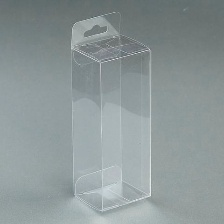plastic_box: (58, 4, 160, 217)
